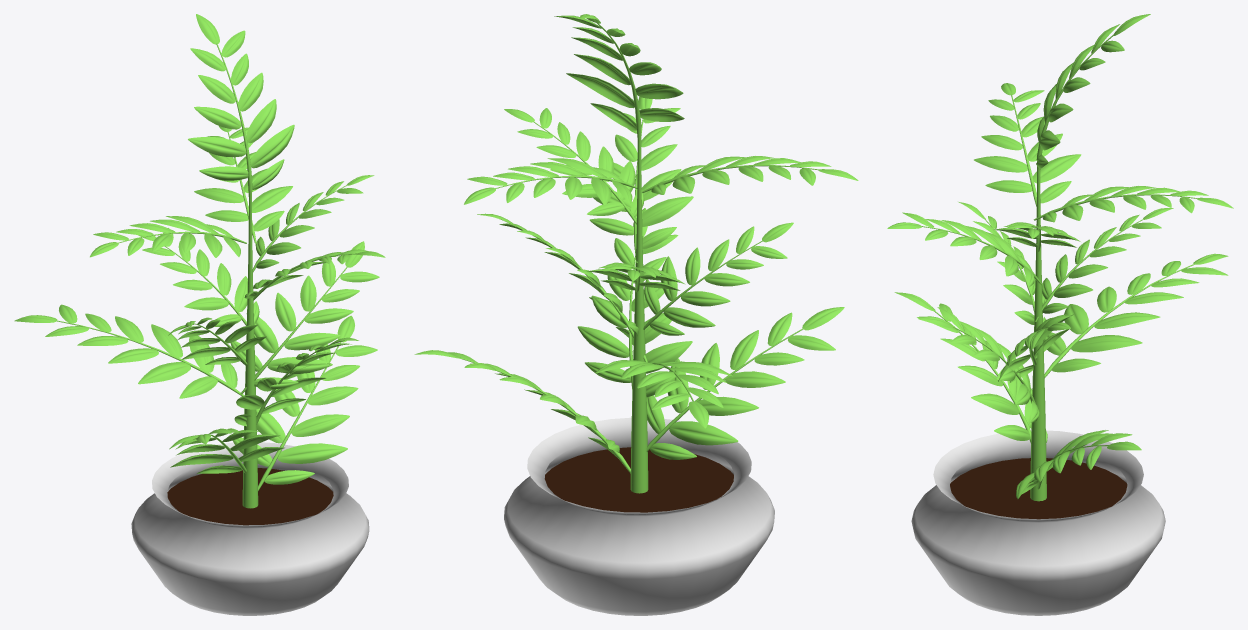
File: fern-draco.glb
3 views of the same model, side by side, from view 1: azimuth 30°, elevation 25°; view 2: azimuth 150°, elevation 25°; view 3: azimuth 270°, elevation 25° (orthographic). The views are drawn at different scales.
Parts seen in each view (by area): view 1: Circle, Vert.009, Circle.001, Vert.003, Vert.013, Vert.011, Vert.012, Vert.008, Vert.010, Vert.004, Vert.002, Vert.005 (+3 smaller); view 2: Circle, Circle.001, Vert.004, Vert.006, Vert.009, Vert.005, Vert.007, Vert.010, Vert.002, Vert.011, Vert.001, Vert.008 (+3 smaller); view 3: Circle, Circle.001, Vert.011, Vert.008, Vert.004, Vert.012, Vert.009, Vert.002, Vert.010, Vert.007, Vert.005, Vert.003 (+3 smaller).
Boxes of the visible parts, x1,y1,x2,y2 form: Circle: [131, 442, 369, 615]; Vert.009: [188, 14, 294, 196]; Circle.001: [167, 468, 333, 525]; Vert.003: [232, 315, 377, 490]; Vert.013: [230, 241, 379, 394]; Vert.011: [14, 304, 244, 398]; Vert.012: [138, 228, 259, 337]; Vert.008: [90, 216, 246, 257]; Vert.010: [194, 126, 292, 243]; Vert.004: [169, 428, 284, 473]; Vert.002: [242, 190, 258, 508]; Vert.005: [234, 337, 358, 426]; Circle: [504, 417, 774, 615]; Circle.001: [544, 447, 733, 512]; Vert.004: [646, 307, 844, 459]; Vert.006: [643, 222, 793, 335]; Vert.009: [554, 14, 684, 142]; Vert.005: [577, 208, 692, 397]; Vert.007: [589, 96, 693, 262]; Vert.010: [464, 158, 637, 204]; Vert.002: [630, 135, 648, 493]; Vert.011: [595, 360, 732, 428]; Vert.001: [504, 108, 644, 224]; Vert.008: [642, 156, 858, 194]; Circle: [911, 430, 1165, 615]; Circle.001: [950, 458, 1127, 519]; Vert.011: [1043, 253, 1228, 377]; Vert.008: [974, 83, 1081, 215]; Vert.004: [894, 292, 1047, 443]; Vert.012: [1035, 208, 1173, 321]; Vert.009: [1036, 14, 1150, 171]; Vert.002: [1030, 166, 1046, 501]; Vert.010: [1033, 186, 1233, 222]; Vert.007: [887, 212, 1042, 286]; Vert.005: [918, 307, 1039, 422]; Vert.003: [1016, 430, 1141, 498].
Size of what is drawn, in the model's own units: 4.56 by 7.05 by 3.9.
